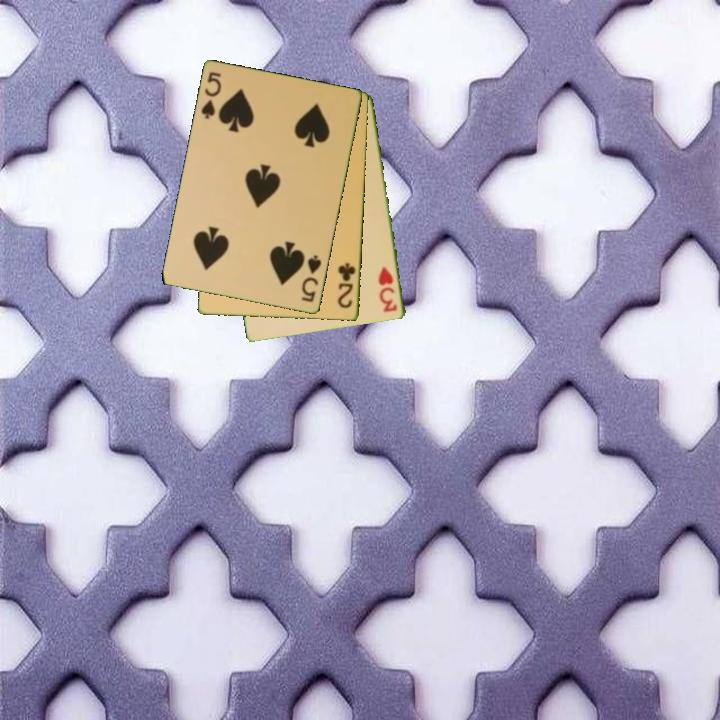2c: (334, 260, 359, 311)
3h: (375, 263, 400, 316)
5s: (298, 252, 324, 305), (198, 69, 224, 122)
